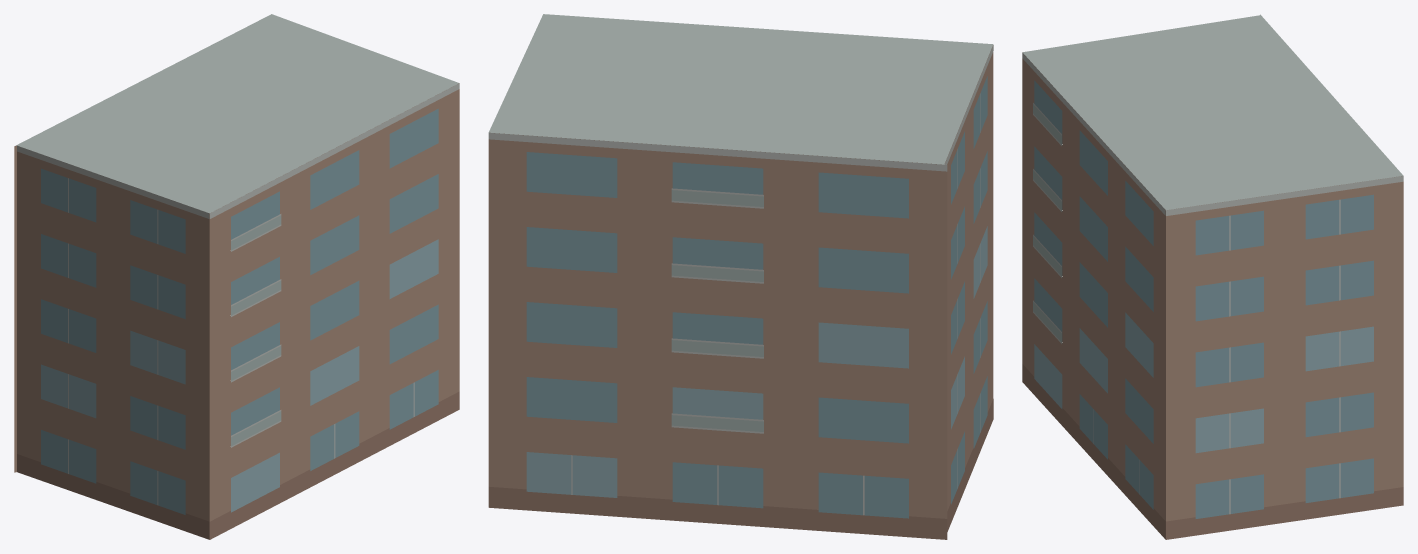
File: survey-upis-32853645.glb
The picture shows the model from 3 angles, left to right: view 1: azimuth 30°, elevation 25°; view 2: azimuth 150°, elevation 25°; view 3: azimuth 270°, elevation 25°; orthographic projection. The views are drawn at different scales.
Visible parts, largest first — view 1: survey-upis-32853645.tmp; view 2: survey-upis-32853645.tmp; view 3: survey-upis-32853645.tmp.
Part boxes in pixels (x1,y1,x2,y2): survey-upis-32853645.tmp: (14, 14, 459, 539); survey-upis-32853645.tmp: (488, 14, 993, 539); survey-upis-32853645.tmp: (1022, 14, 1403, 539).
Bounding box in the file's own units: 17.38 × 13.6 × 14.27.
